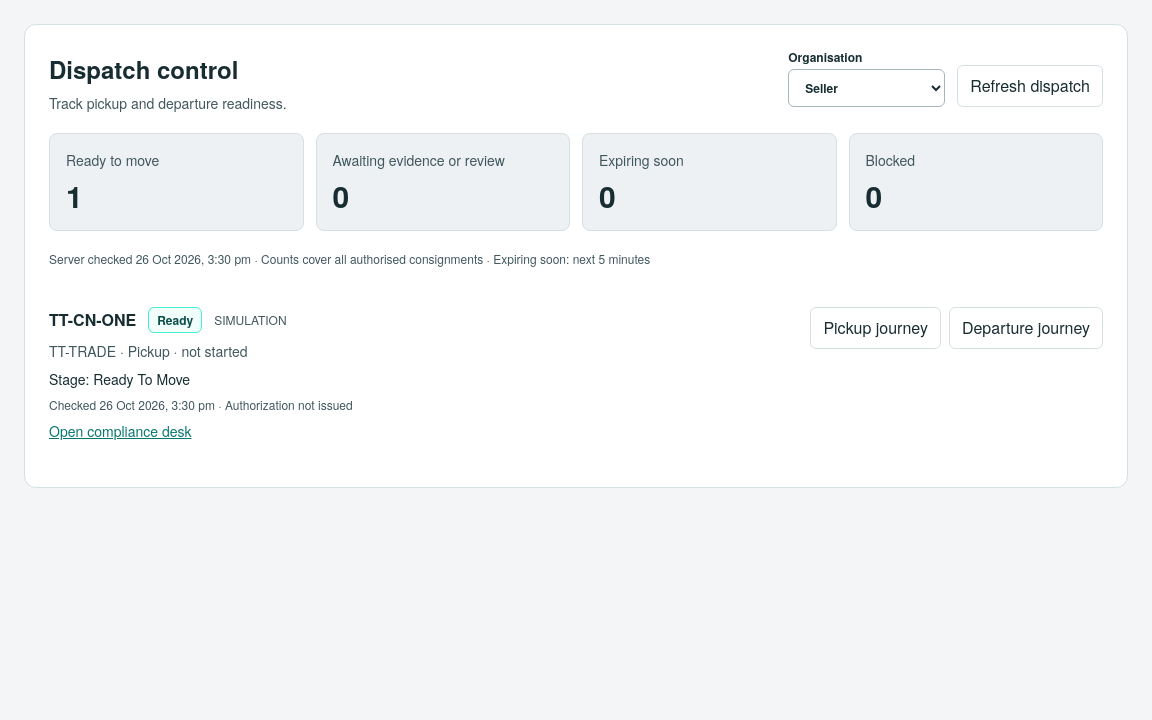
Test: refreshes at the exclusive expiry boundary without a polling burst
Click the button with aria-label "Pickup journey for TT-CN-ONE".
click(876, 328)  # box [810, 307, 941, 349]
Wait 5000 ms
(page scrolled)
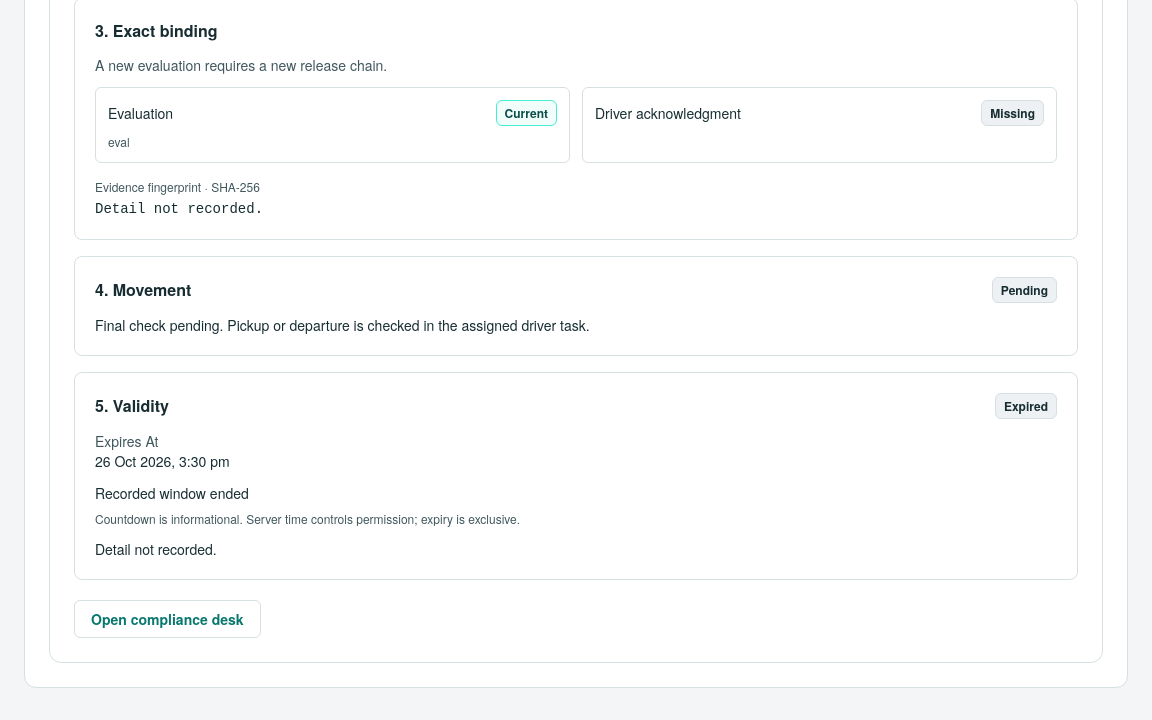
Expected: the text "expired" is shown, [995, 393, 1057, 419]
